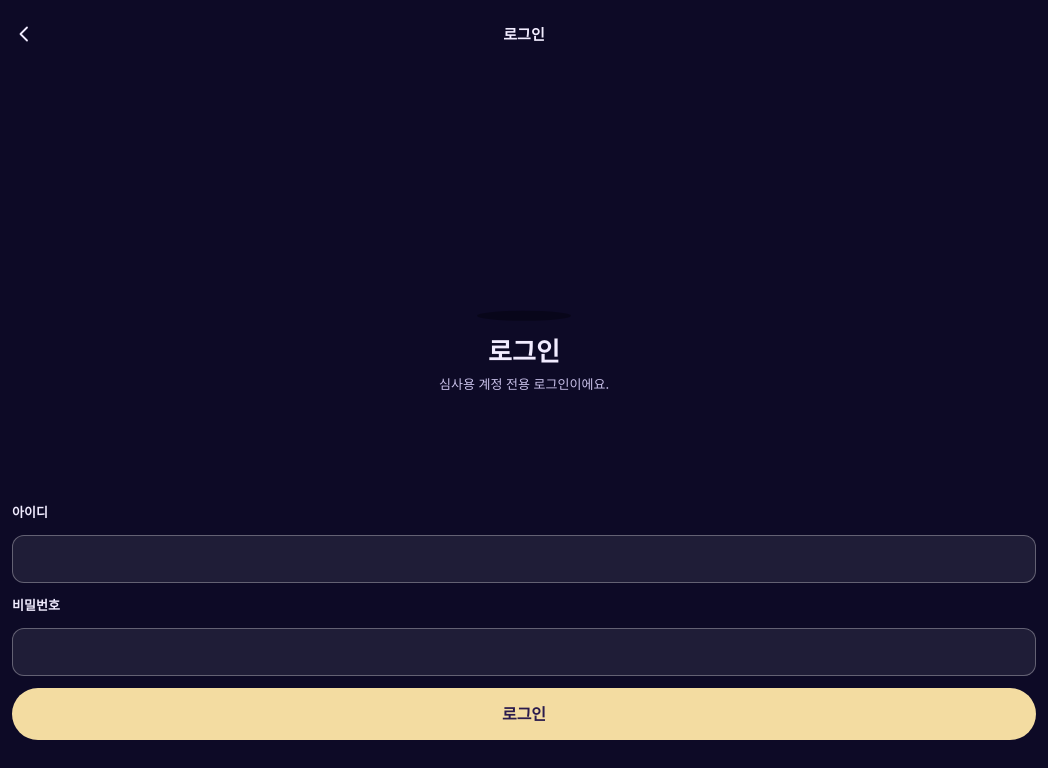
Test: ReviewLoginForm › shows the server's one answer when the login is refused, and stays
The width and height of the screenshot is (1048, 768).
Type "card-review" into the field labelled "아이디" at point(524, 559), box [12, 535, 1036, 583]
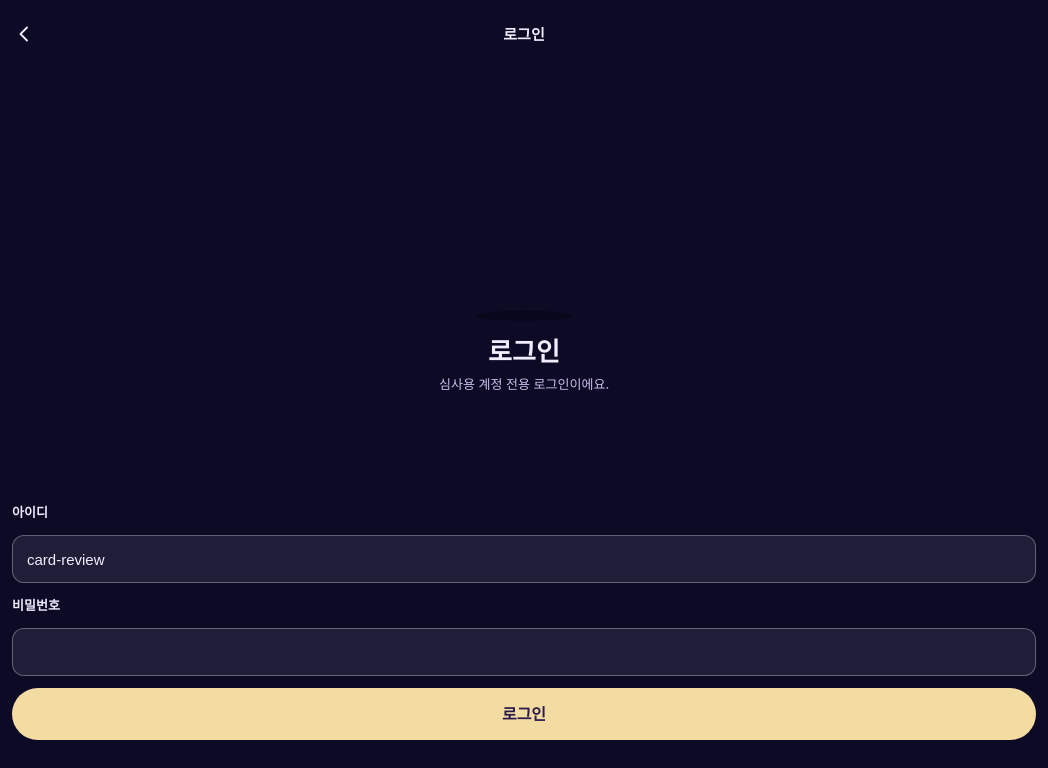
Type "wrong" into the password field labelled "비밀번호" at point(524, 652), box [12, 628, 1036, 676]
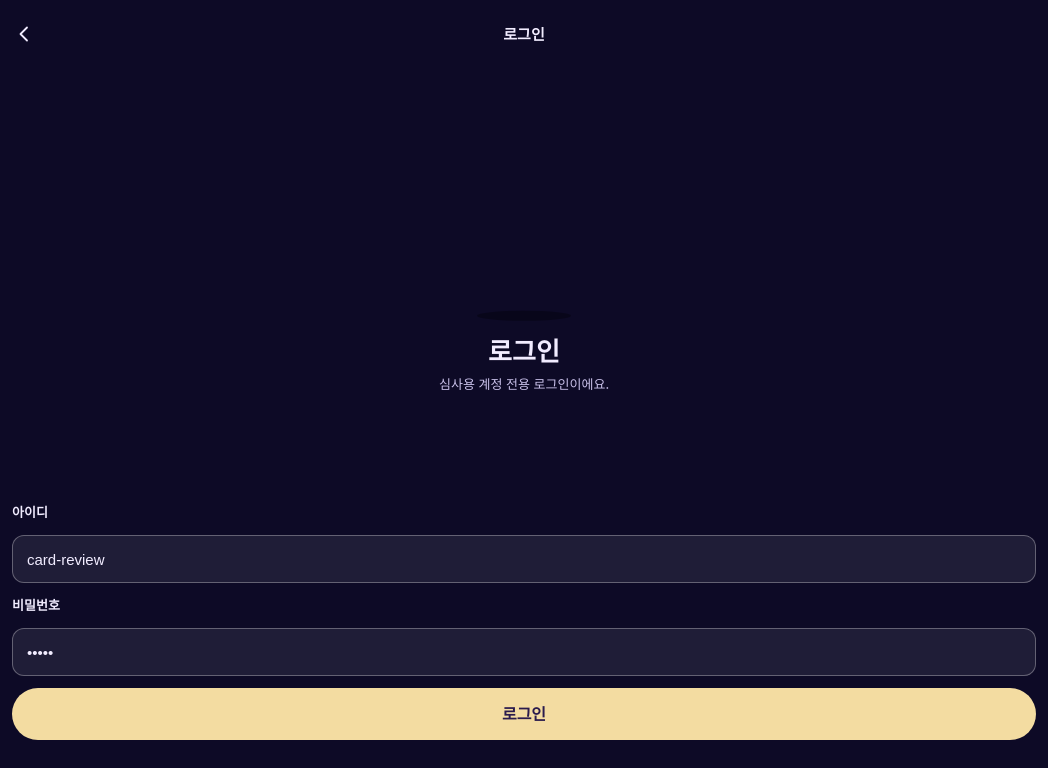
Click the button "로그인" at point(524, 714), box [12, 688, 1036, 740]
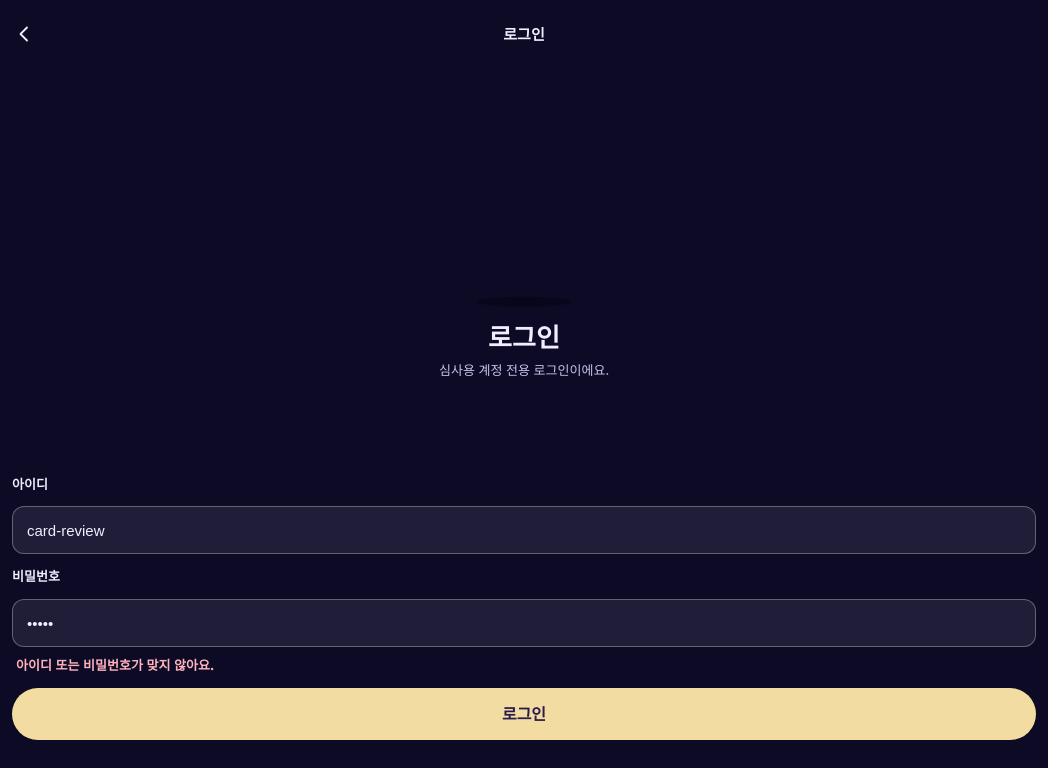
Now the message reads "아이디 또는 비밀번호가 맞지 않아요.", box [16, 655, 214, 674]
